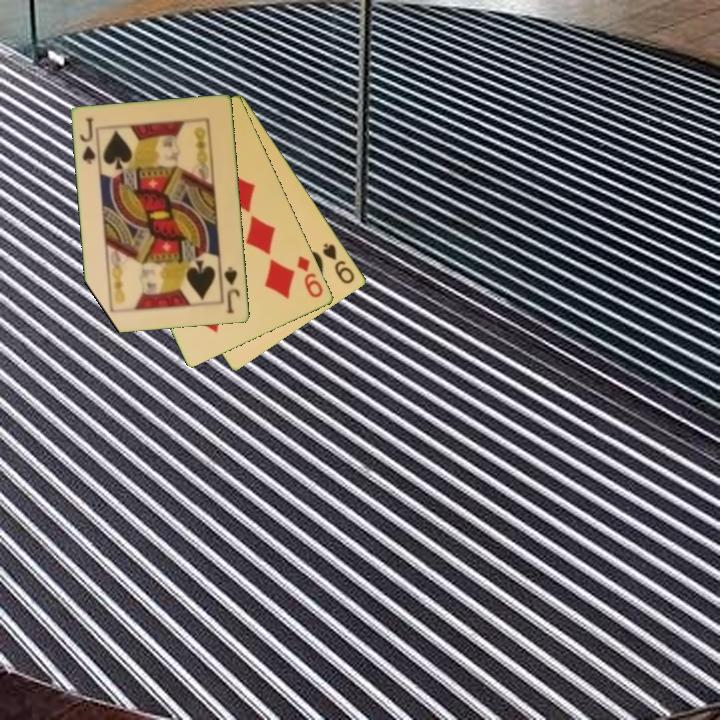9d: (294, 252, 326, 301)
9s: (319, 239, 358, 287)
Js: (77, 114, 99, 168), (221, 264, 243, 316)
